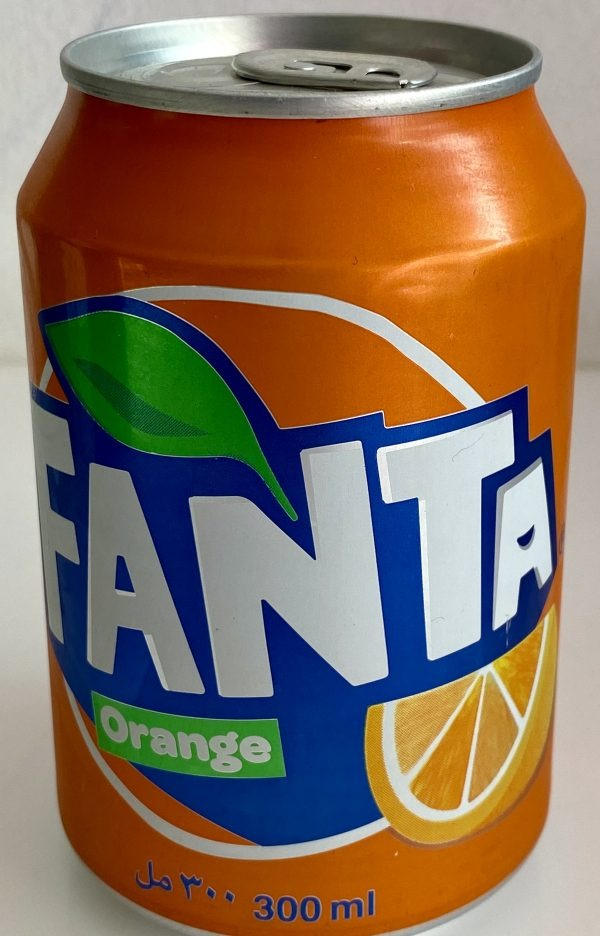metal: (13, 12, 588, 936)
